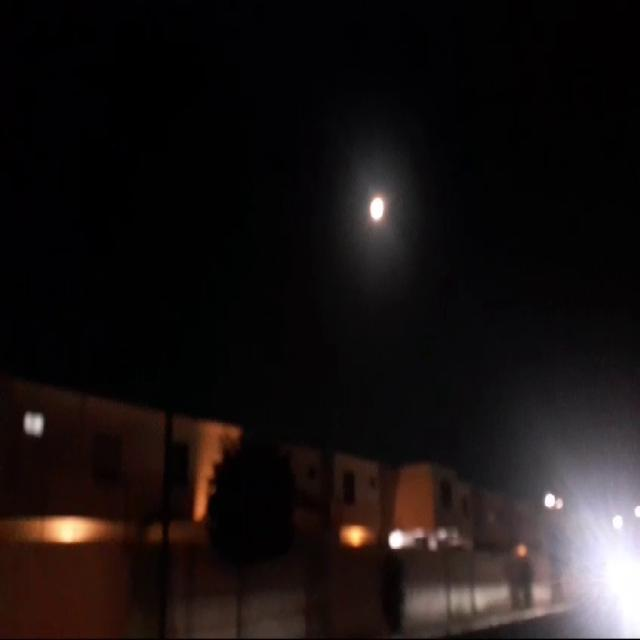moon: (366, 191, 385, 225)
